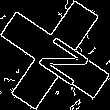N_NW: (23, 24, 87, 86)
